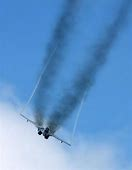smoke: (28, 44, 92, 120)
